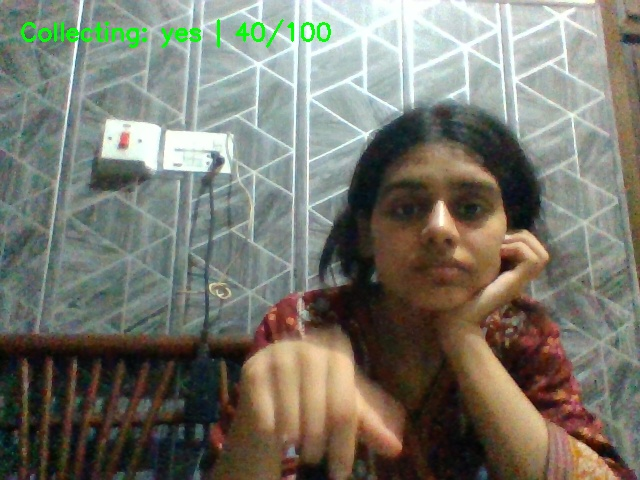yes: (206, 328, 427, 480)
